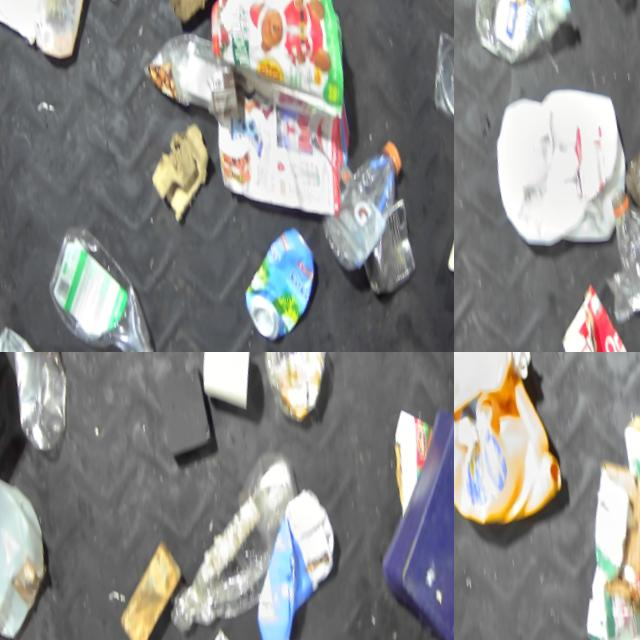can: (238, 217, 344, 346), (359, 191, 436, 300), (0, 218, 17, 316)
milk_jug: (482, 68, 640, 256), (0, 465, 77, 640)
non_white_jug: (454, 369, 578, 531), (454, 352, 538, 412)
plastic_bottle: (154, 437, 336, 635), (316, 131, 431, 276), (4, 352, 87, 453), (465, 0, 586, 68), (607, 177, 640, 317)
